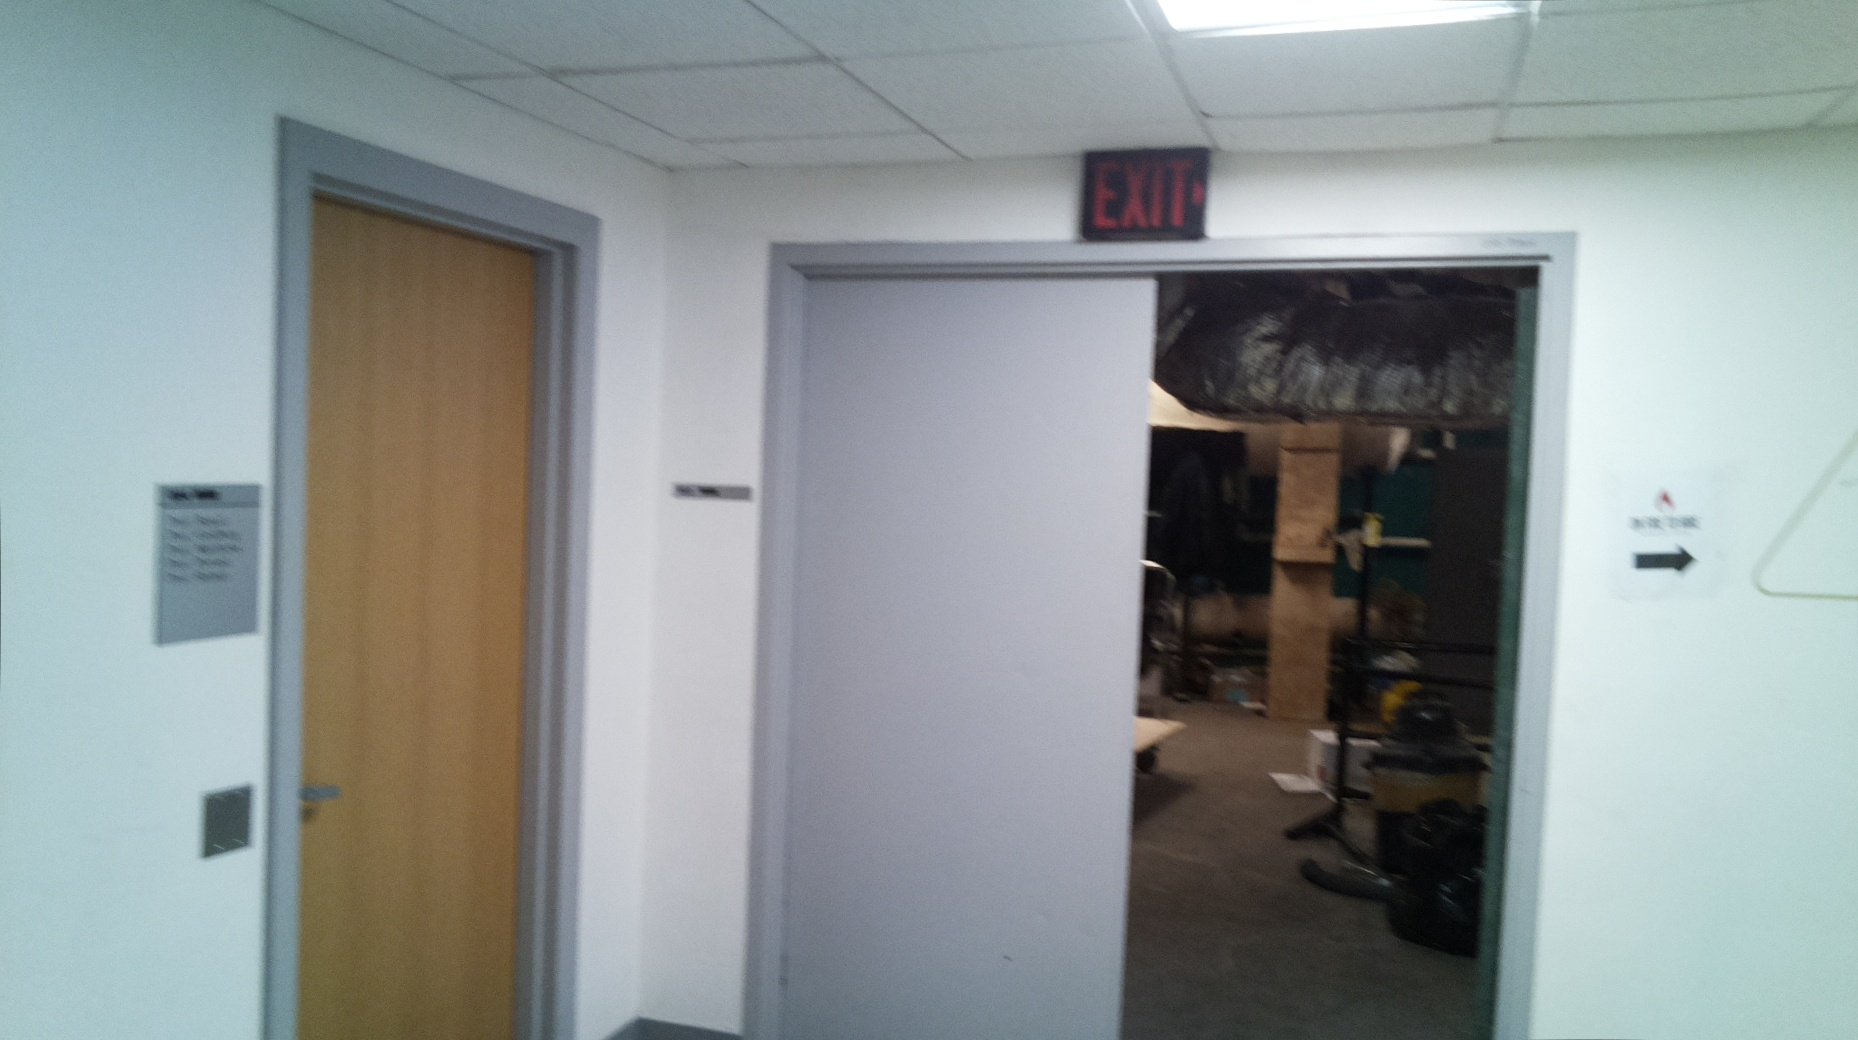exit sign: (1071, 137, 1223, 251)
